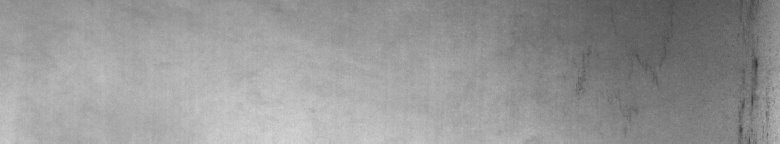ka: (731, 4, 776, 136)
